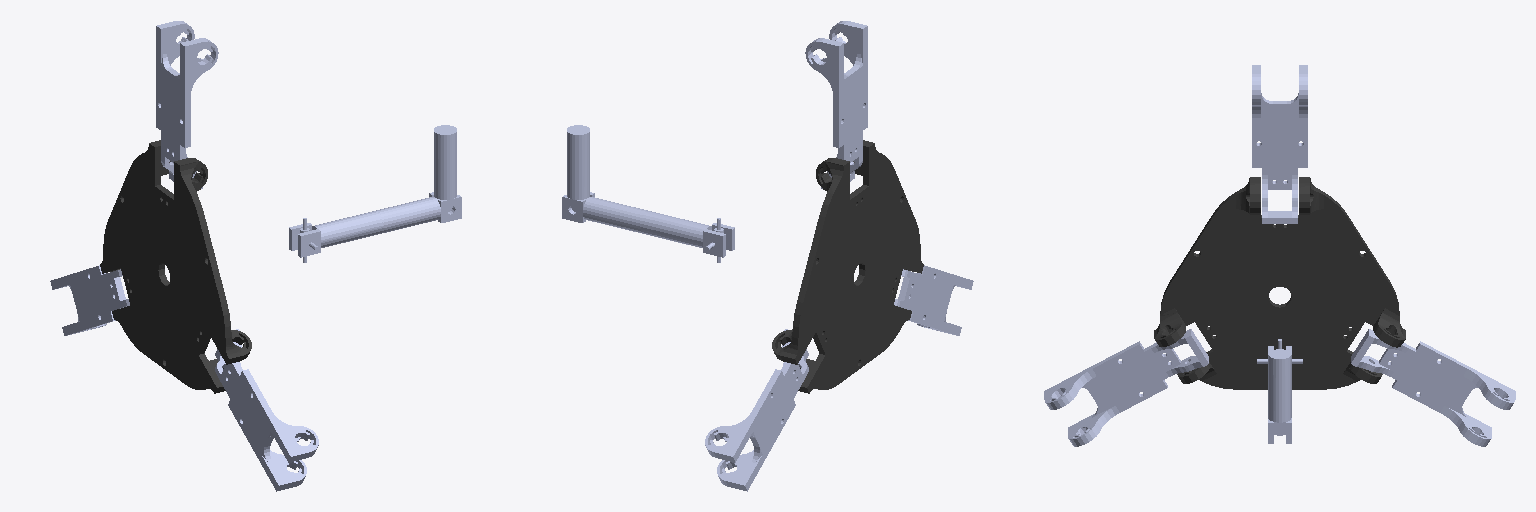
The robot description file, URDF, robot "segment_follow_ver1":
<?xml version="1.0" encoding="utf-8"?>
<!-- This URDF was automatically created by SolidWorks to URDF Exporter! Originally created by [author] ([email redacted]) 
     Commit Version: 1.6.0-1-g15f4949  Build Version: 1.6.7594.29634
     For more information, please see http://wiki.ros.org/sw_urdf_exporter -->
<robot
  name="segment_follow_ver1">
  <link
    name="base_link">
    <inertial>
      <origin
        xyz="0.010763 0.12575 0.19671"
        rpy="0 0 0" />
      <mass
        value="0.029248" />
      <inertia
        ixx="3.8875E-05"
        ixy="-5.9801E-08"
        ixz="3.066E-09"
        iyy="1.9306E-05"
        iyz="7.6463E-10"
        izz="1.9864E-05" />
    </inertial>
    <visual>
      <origin
        xyz="0 0 0"
        rpy="0 0 0" />
      <geometry>
        <mesh
          filename="package://segment_follow_ver1/meshes/base_link.STL" />
      </geometry>
      <material
        name="">
        <color
          rgba="0.29804 0.29804 0.29804 1" />
      </material>
    </visual>
    <collision>
      <origin
        xyz="0 0 0"
        rpy="0 0 0" />
      <geometry>
        <mesh
          filename="package://segment_follow_ver1/meshes/base_link.STL" />
      </geometry>
    </collision>
  </link>
  <link
    name="sus1">
    <inertial>
      <origin
        xyz="0.024528 -0.0057974 -0.008"
        rpy="0 0 0" />
      <mass
        value="0.0048446" />
      <inertia
        ixx="3.4495E-07"
        ixy="5.1061E-08"
        ixz="1.278E-14"
        iyy="2.3123E-06"
        iyz="2.1948E-14"
        izz="2.0865E-06" />
    </inertial>
    <visual>
      <origin
        xyz="0 0 0"
        rpy="0 0 0" />
      <geometry>
        <mesh
          filename="package://segment_follow_ver1/meshes/sus1.STL" />
      </geometry>
      <material
        name="">
        <color
          rgba="0.79216 0.81961 0.93333 1" />
      </material>
    </visual>
    <collision>
      <origin
        xyz="0 0 0"
        rpy="0 0 0" />
      <geometry>
        <mesh
          filename="package://segment_follow_ver1/meshes/sus1.STL" />
      </geometry>
    </collision>
  </link>
  <joint
    name="sus1r"
    type="revolute">
    <origin
      xyz="0.020949 -0.28148 0.067161"
      rpy="3.1416 -0.5236 1.5708" />
    <parent
      link="base_link" />
    <child
      link="sus1" />
    <axis
      xyz="0 0 0" />
    <limit
      lower="0"
      upper="0"
      effort="0"
      velocity="0" />
  </joint>
  <link
    name="w11">
    <inertial>
      <origin
        xyz="5.2222E-12 0.011 1.8397E-11"
        rpy="0 0 0" />
      <mass
        value="0.0080256" />
      <inertia
        ixx="2.6304E-06"
        ixy="-7.5528E-16"
        ixz="6.5732E-16"
        iyy="9.6877E-07"
        iyz="-1.4033E-15"
        izz="2.6304E-06" />
    </inertial>
    <visual>
      <origin
        xyz="0 0 0"
        rpy="0 0 0" />
      <geometry>
        <mesh
          filename="package://segment_follow_ver1/meshes/w11.STL" />
      </geometry>
      <material
        name="">
        <color
          rgba="0.79216 0.81961 0.93333 1" />
      </material>
    </visual>
    <collision>
      <origin
        xyz="0 0 0"
        rpy="0 0 0" />
      <geometry>
        <mesh
          filename="package://segment_follow_ver1/meshes/w11.STL" />
      </geometry>
    </collision>
  </link>
  <joint
    name="w11r"
    type="continuous">
    <origin
      xyz="0 0 -0.019"
      rpy="1.5708 0 -1.0993" />
    <parent
      link="sus1" />
    <child
      link="w11" />
    <axis
      xyz="0 0 0" />
    <limit
      lower="0"
      upper="0"
      effort="0"
      velocity="0" />
  </joint>
  <link
    name="sus2">
    <inertial>
      <origin
        xyz="0.0245281388862843 -0.00579743458596982 -0.00799999408218524"
        rpy="0 0 0" />
      <mass
        value="0.00484464622012381" />
      <inertia
        ixx="3.44953504540437E-07"
        ixy="5.10613036903035E-08"
        ixz="1.55592500691201E-13"
        iyy="2.31225031988856E-06"
        iyz="4.30376878738603E-14"
        izz="2.0864986737292E-06" />
    </inertial>
    <visual>
      <origin
        xyz="0 0 0"
        rpy="0 0 0" />
      <geometry>
        <mesh
          filename="package://segment_follow_ver1/meshes/sus2.STL" />
      </geometry>
      <material
        name="">
        <color
          rgba="0.792156862745098 0.819607843137255 0.933333333333333 1" />
      </material>
    </visual>
    <collision>
      <origin
        xyz="0 0 0"
        rpy="0 0 0" />
      <geometry>
        <mesh
          filename="package://segment_follow_ver1/meshes/sus2.STL" />
      </geometry>
    </collision>
  </link>
  <joint
    name="sus2r"
    type="revolute">
    <origin
      xyz="0.020949 -0.10396 0.081018"
      rpy="0 -0.5236 -1.5708" />
    <parent
      link="base_link" />
    <child
      link="sus2" />
    <axis
      xyz="0 0 0" />
    <limit
      lower="0"
      upper="0"
      effort="0"
      velocity="0" />
  </joint>
  <link
    name="w12">
    <inertial>
      <origin
        xyz="5.21314935664208E-12 0.0109999999660882 1.84374460143744E-11"
        rpy="0 0 0" />
      <mass
        value="0.00802564595064063" />
      <inertia
        ixx="2.63042675366783E-06"
        ixy="-7.55284350110964E-16"
        ixz="6.57278297069787E-16"
        iyy="9.6877186556785E-07"
        iyz="-1.39968951985772E-15"
        izz="2.63042674933547E-06" />
    </inertial>
    <visual>
      <origin
        xyz="0 0 0"
        rpy="0 0 0" />
      <geometry>
        <mesh
          filename="package://segment_follow_ver1/meshes/w12.STL" />
      </geometry>
      <material
        name="">
        <color
          rgba="0.792156862745098 0.819607843137255 0.933333333333333 1" />
      </material>
    </visual>
    <collision>
      <origin
        xyz="0 0 0"
        rpy="0 0 0" />
      <geometry>
        <mesh
          filename="package://segment_follow_ver1/meshes/w12.STL" />
      </geometry>
    </collision>
  </link>
  <joint
    name="w12r"
    type="continuous">
    <origin
      xyz="0 0 -0.019"
      rpy="1.5708 0 -1.0993" />
    <parent
      link="sus2" />
    <child
      link="w12" />
    <axis
      xyz="0 0 0" />
    <limit
      lower="0"
      upper="0"
      effort="0"
      velocity="0" />
  </joint>
  <link
    name="sus3">
    <inertial>
      <origin
        xyz="0.0245281427339185 -0.00579743476204341 -0.00799999583699243"
        rpy="0 0 0" />
      <mass
        value="0.00484464531506038" />
      <inertia
        ixx="3.44953306450567E-07"
        ixy="5.10613156648366E-08"
        ixz="7.85719483339943E-14"
        iyy="2.31224993634185E-06"
        iyz="3.48701370251376E-14"
        izz="2.08649849059194E-06" />
    </inertial>
    <visual>
      <origin
        xyz="0 0 0"
        rpy="0 0 0" />
      <geometry>
        <mesh
          filename="package://segment_follow_ver1/meshes/sus3.STL" />
      </geometry>
      <material
        name="">
        <color
          rgba="0.792156862745098 0.819607843137255 0.933333333333333 1" />
      </material>
    </visual>
    <collision>
      <origin
        xyz="0 0 0"
        rpy="0 0 0" />
      <geometry>
        <mesh
          filename="package://segment_follow_ver1/meshes/sus3.STL" />
      </geometry>
    </collision>
  </link>
  <joint
    name="sus3r"
    type="revolute">
    <origin
      xyz="0.020949 -0.20472 0.22783"
      rpy="1.5708 1.5708 0" />
    <parent
      link="base_link" />
    <child
      link="sus3" />
    <axis
      xyz="0 0 0" />
    <limit
      lower="0"
      upper="0"
      effort="0"
      velocity="0" />
  </joint>
  <link
    name="w13">
    <inertial>
      <origin
        xyz="5.21754861537715E-12 0.0109999999661513 1.84169901551456E-11"
        rpy="0 0 0" />
      <mass
        value="0.00802564595065764" />
      <inertia
        ixx="2.63042675367367E-06"
        ixy="-7.55267418789561E-16"
        ixz="6.57297037673746E-16"
        iyy="9.6877186557038E-07"
        iyz="-1.40145232605878E-15"
        izz="2.63042674933879E-06" />
    </inertial>
    <visual>
      <origin
        xyz="0 0 0"
        rpy="0 0 0" />
      <geometry>
        <mesh
          filename="package://segment_follow_ver1/meshes/w13.STL" />
      </geometry>
      <material
        name="">
        <color
          rgba="0.792156862745098 0.819607843137255 0.933333333333333 1" />
      </material>
    </visual>
    <collision>
      <origin
        xyz="0 0 0"
        rpy="0 0 0" />
      <geometry>
        <mesh
          filename="package://segment_follow_ver1/meshes/w13.STL" />
      </geometry>
    </collision>
  </link>
  <joint
    name="w13r"
    type="continuous">
    <origin
      xyz="0 0 -0.019"
      rpy="1.5708 0 -1.0993" />
    <parent
      link="sus3" />
    <child
      link="w13" />
    <axis
      xyz="0 0 0" />
    <limit
      lower="0"
      upper="0"
      effort="0"
      velocity="0" />
  </joint>
  <link
    name="con1">
    <inertial>
      <origin
        xyz="0.0150000000000001 -8.32667268468867E-17 -1.52655665885959E-16"
        rpy="0 0 0" />
      <mass
        value="0.00235619449019234" />
      <inertia
        ixx="2.94524311274043E-08"
        ixy="4.86347831101101E-22"
        ixz="1.21907854063494E-21"
        iyy="1.91440802328128E-07"
        iyz="0"
        izz="1.91440802328128E-07" />
    </inertial>
    <visual>
      <origin
        xyz="0 0 0"
        rpy="0 0 0" />
      <geometry>
        <mesh
          filename="package://segment_follow_ver1/meshes/con1.STL" />
      </geometry>
      <material
        name="">
        <color
          rgba="0.792156862745098 0.819607843137255 0.933333333333333 1" />
      </material>
    </visual>
    <collision>
      <origin
        xyz="0 0 0"
        rpy="0 0 0" />
      <geometry>
        <mesh
          filename="package://segment_follow_ver1/meshes/con1.STL" />
      </geometry>
    </collision>
  </link>
  <joint
    name="con1f"
    type="fixed">
    <origin
      xyz="0.011619 -0.19672 0.12534"
      rpy="3.0572 0 0" />
    <parent
      link="base_link" />
    <child
      link="con1" />
    <axis
      xyz="0 0 0" />
  </joint>
  <link
    name="con2">
    <inertial>
      <origin
        xyz="5.55111512312578E-17 0.0511300493614309 -2.22044604925031E-16"
        rpy="0 0 0" />
      <mass
        value="0.00279336263712055" />
      <inertia
        ixx="3.47148573143988E-07"
        ixy="-3.21809896709862E-22"
        ixz="6.26210147309216E-24"
        iyy="3.99316347503688E-08"
        iyz="1.06332602650654E-21"
        izz="3.49420107139763E-07" />
    </inertial>
    <visual>
      <origin
        xyz="0 0 0"
        rpy="0 0 0" />
      <geometry>
        <mesh
          filename="package://segment_follow_ver1/meshes/con2.STL" />
      </geometry>
      <material
        name="">
        <color
          rgba="0.792156862745098 0.819607843137255 0.933333333333333 1" />
      </material>
    </visual>
    <collision>
      <origin
        xyz="0 0 0"
        rpy="0 0 0" />
      <geometry>
        <mesh
          filename="package://segment_follow_ver1/meshes/con2.STL" />
      </geometry>
    </collision>
  </link>
  <joint
    name="con2p"
    type="prismatic">
    <origin
      xyz="-0.003 0 0"
      rpy="0 -1.4864 -1.5708" />
    <parent
      link="con1" />
    <child
      link="con2" />
    <axis
      xyz="0 0 0" />
    <limit
      lower="0"
      upper="0"
      effort="0"
      velocity="0" />
  </joint>
  <link
    name="uni">
    <inertial>
      <origin
        xyz="0.0153755701673791 1.70822661571535E-10 1.70822744838262E-10"
        rpy="0 0 0" />
      <mass
        value="0.00306485478527649" />
      <inertia
        ixx="4.58672113643246E-08"
        ixy="4.47220450271885E-15"
        ixz="-4.47220572149184E-15"
        iyy="3.52620812922611E-07"
        iyz="1.0300750037991E-21"
        izz="3.50349278926836E-07" />
    </inertial>
    <visual>
      <origin
        xyz="0 0 0"
        rpy="0 0 0" />
      <geometry>
        <mesh
          filename="package://segment_follow_ver1/meshes/uni.STL" />
      </geometry>
      <material
        name="">
        <color
          rgba="0.792156862745098 0.819607843137255 0.933333333333333 1" />
      </material>
    </visual>
    <collision>
      <origin
        xyz="0 0 0"
        rpy="0 0 0" />
      <geometry>
        <mesh
          filename="package://segment_follow_ver1/meshes/uni.STL" />
      </geometry>
    </collision>
  </link>
  <joint
    name="uni1r"
    type="revolute">
    <origin
      xyz="0 0.068 0"
      rpy="0 0 1.5708" />
    <parent
      link="con2" />
    <child
      link="uni" />
    <axis
      xyz="0 0 0" />
    <limit
      lower="0"
      upper="0"
      effort="0"
      velocity="0" />
  </joint>
  <link
    name="con3">
    <inertial>
      <origin
        xyz="2.77555756156289E-17 0.0511300493614309 1.66533453693773E-16"
        rpy="0 0 0" />
      <mass
        value="0.00279336263712054" />
      <inertia
        ixx="3.49420107139762E-07"
        ixy="-3.62279923625551E-22"
        ixz="2.21203192017765E-23"
        iyy="3.99316347503688E-08"
        iyz="-9.91888009862822E-22"
        izz="3.47148573143987E-07" />
    </inertial>
    <visual>
      <origin
        xyz="0 0 0"
        rpy="0 0 0" />
      <geometry>
        <mesh
          filename="package://segment_follow_ver1/meshes/con3.STL" />
      </geometry>
      <material
        name="">
        <color
          rgba="0.792156862745098 0.819607843137255 0.933333333333333 1" />
      </material>
    </visual>
    <collision>
      <origin
        xyz="0 0 0"
        rpy="0 0 0" />
      <geometry>
        <mesh
          filename="package://segment_follow_ver1/meshes/con3.STL" />
      </geometry>
    </collision>
  </link>
  <joint
    name="con3p"
    type="revolute">
    <origin
      xyz="0.068 0 0"
      rpy="0 0 1.5708" />
    <parent
      link="uni" />
    <child
      link="con3" />
    <axis
      xyz="0 0 0" />
    <limit
      lower="0"
      upper="0"
      effort="0"
      velocity="0" />
  </joint>
  <link
    name="con4">
    <inertial>
      <origin
        xyz="-0.0150000000000001 -1.11022302462516E-16 2.77555756156289E-17"
        rpy="0 0 0" />
      <mass
        value="0.00235619449019234" />
      <inertia
        ixx="2.94524311274043E-08"
        ixy="-1.1574339151654E-21"
        ixz="-6.82310798372854E-22"
        iyy="1.91440802328128E-07"
        iyz="0"
        izz="1.91440802328128E-07" />
    </inertial>
    <visual>
      <origin
        xyz="0 0 0"
        rpy="0 0 0" />
      <geometry>
        <mesh
          filename="package://segment_follow_ver1/meshes/con4.STL" />
      </geometry>
      <material
        name="">
        <color
          rgba="0.792156862745098 0.819607843137255 0.933333333333333 1" />
      </material>
    </visual>
    <collision>
      <origin
        xyz="0 0 0"
        rpy="0 0 0" />
      <geometry>
        <mesh
          filename="package://segment_follow_ver1/meshes/con4.STL" />
      </geometry>
    </collision>
  </link>
  <joint
    name="con4p"
    type="prismatic">
    <origin
      xyz="0 0.003 0"
      rpy="-0.9827 0 -1.5708" />
    <parent
      link="con3" />
    <child
      link="con4" />
    <axis
      xyz="-1 0 0" />
    <limit
      lower="0"
      upper="0"
      effort="0"
      velocity="0" />
  </joint>
</robot>

--- Facts derived from the render (not from the file) ---
Views: 3 orthographic renders of the robot side by side, from view 1: azimuth 30°, elevation 25°; view 2: azimuth 150°, elevation 25°; view 3: azimuth 270°, elevation 25°.
Robot: segment_follow_ver1 — 12 links, 11 joints (5 revolute, 3 continuous, 2 prismatic, 1 fixed); root link base_link; default pose: all joints at 0.
Visible links, largest first — view 1: base_link, sus1, sus3, sus2, uni, con3, con4; view 2: base_link, sus2, sus3, sus1, uni, con3, con4; view 3: base_link, sus1, sus2, sus3, con3.
Boxes of the visible links, box(x1,y1,x2,y2) form: base_link: box(100, 140, 251, 393); sus1: box(215, 329, 318, 491); sus3: box(156, 21, 218, 188); sus2: box(50, 265, 129, 335); uni: box(289, 211, 382, 262); con3: box(429, 125, 461, 222); con4: box(376, 197, 440, 233); base_link: box(772, 140, 923, 393); sus2: box(705, 329, 808, 491); sus3: box(805, 21, 867, 188); sus1: box(894, 265, 973, 335); uni: box(641, 211, 734, 262); con3: box(562, 125, 594, 222); con4: box(583, 197, 647, 233); base_link: box(1154, 177, 1405, 389); sus1: box(1044, 329, 1208, 446); sus2: box(1351, 329, 1515, 446); sus3: box(1252, 65, 1307, 223); con3: box(1268, 349, 1291, 443).
Size in the robot's own frame: 0.141 by 0.2016 by 0.1746 metres.
7 mesh visuals loaded from 12 distinct referenced files (7 binary STL); not drawn: 5 (reference not matched to a file when rendering).